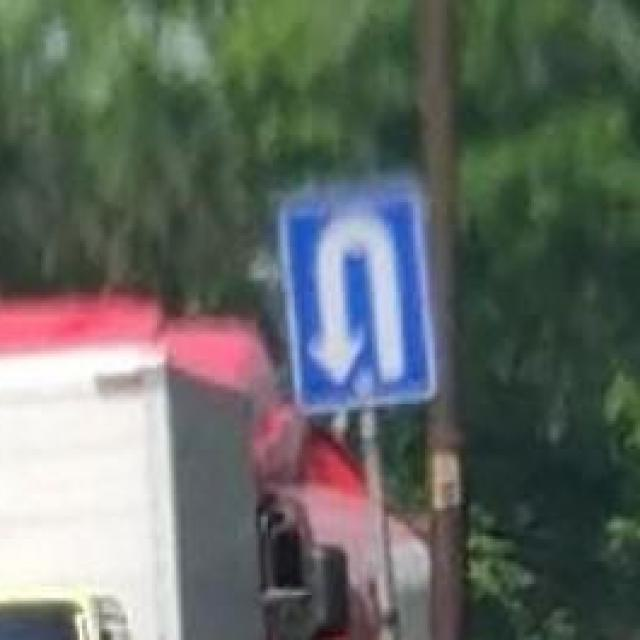U-turn: (284, 204, 434, 404)
